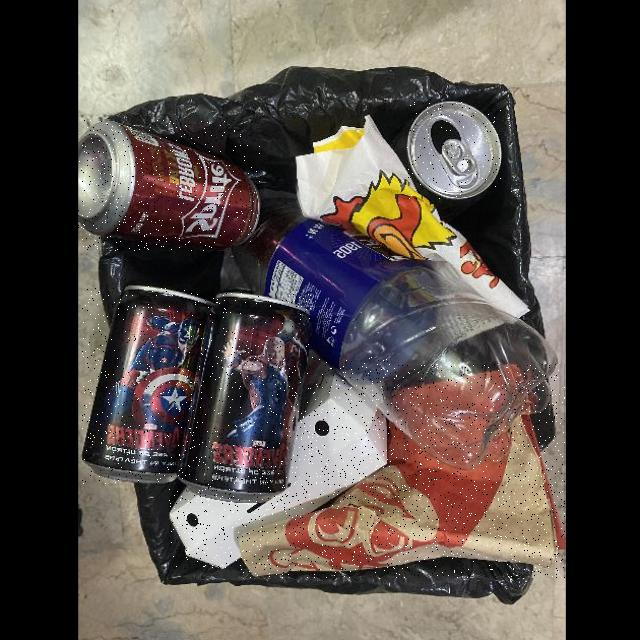metal: (178, 293, 311, 503), (82, 286, 214, 484), (78, 120, 260, 251), (407, 102, 501, 199)
paper: (240, 364, 565, 578), (170, 357, 388, 568)
